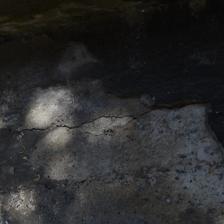Crack: (2, 47, 214, 96)
